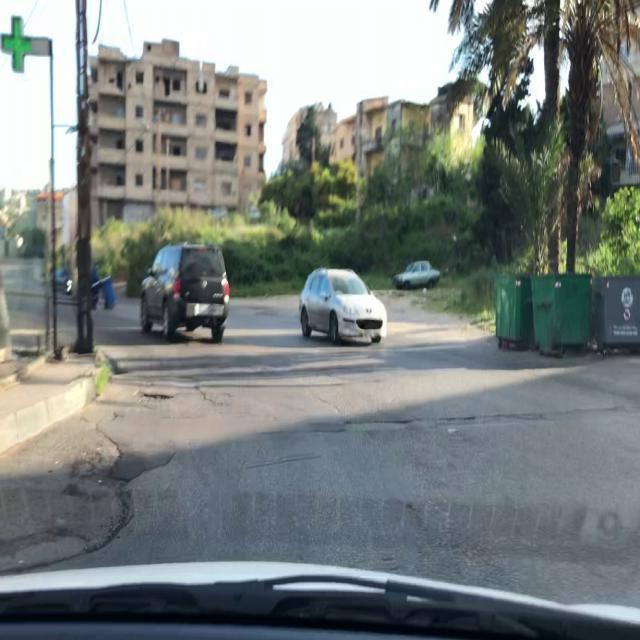pothole: (0, 523, 95, 576), (140, 390, 175, 411)
